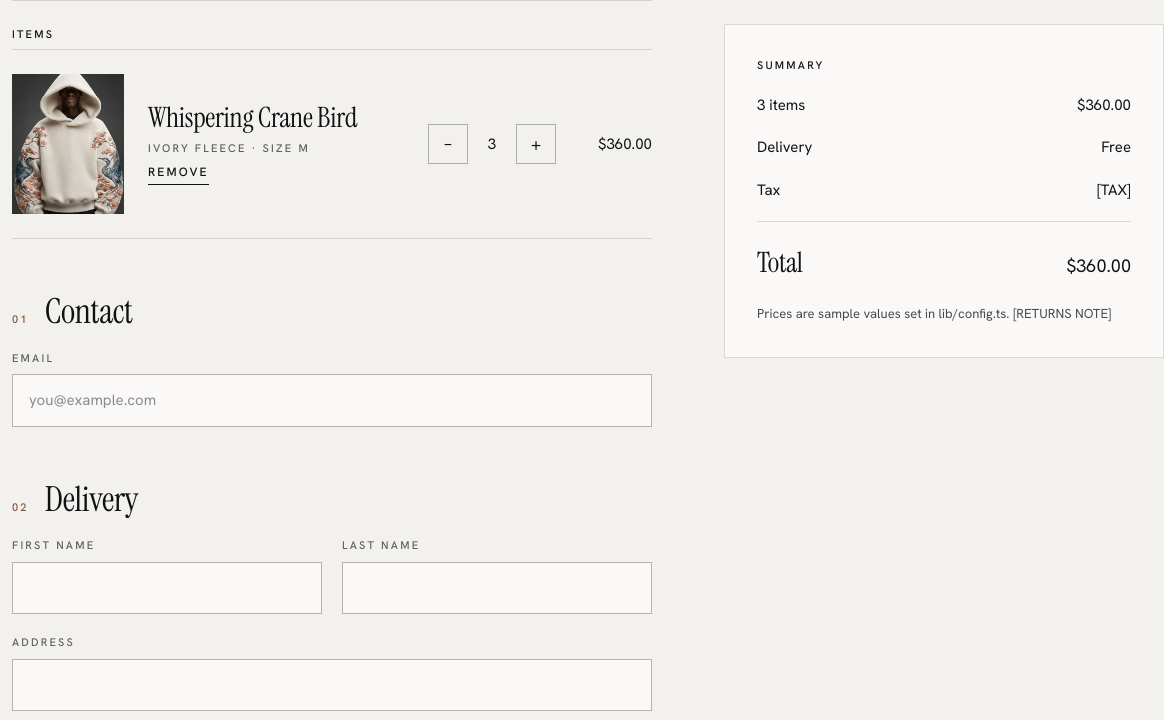
Test case: changing quantities › decrements with One fewer
Click the button named "One fewer". click: (448, 144)
box: [428, 124, 468, 164]
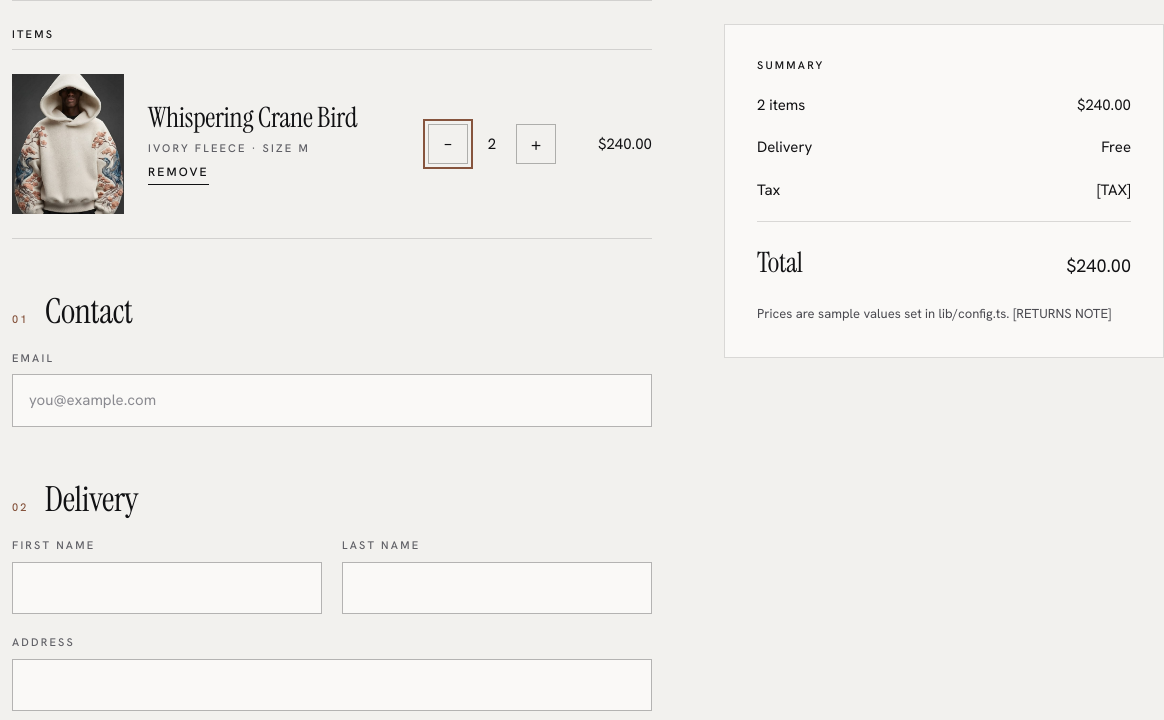
Now the text named "Quantity" reads "2", box [488, 134, 496, 154]
